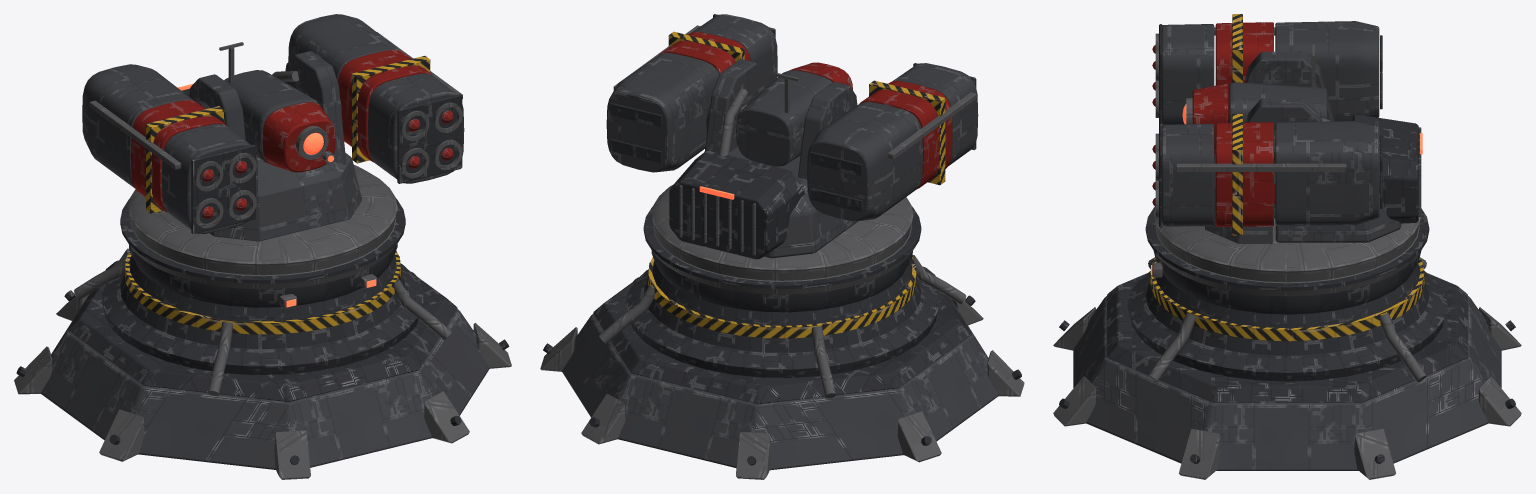
The model's file is turret.glb.
3 renders of one model, left to right at view 1: azimuth 30°, elevation 25°; view 2: azimuth 150°, elevation 25°; view 3: azimuth 270°, elevation 25°, orthographic. The views are drawn at different scales.
Visible parts, largest first — view 1: Base, Pitch, Yaw; view 2: Base, Pitch, Yaw; view 3: Base, Pitch, Yaw.
Boxes of the visible parts, bbox=[...] form: Base: bbox=[14, 244, 511, 479]; Pitch: bbox=[82, 14, 464, 234]; Yaw: bbox=[120, 51, 405, 289]; Base: bbox=[540, 250, 1024, 479]; Pitch: bbox=[606, 14, 978, 221]; Yaw: bbox=[643, 59, 921, 294]; Base: bbox=[1053, 251, 1521, 479]; Pitch: bbox=[1152, 14, 1382, 235]; Yaw: bbox=[1145, 51, 1429, 296].
Bounding box in the file's own units: 3.57 × 2.71 × 3.57.
6 materials, 5 textured.
